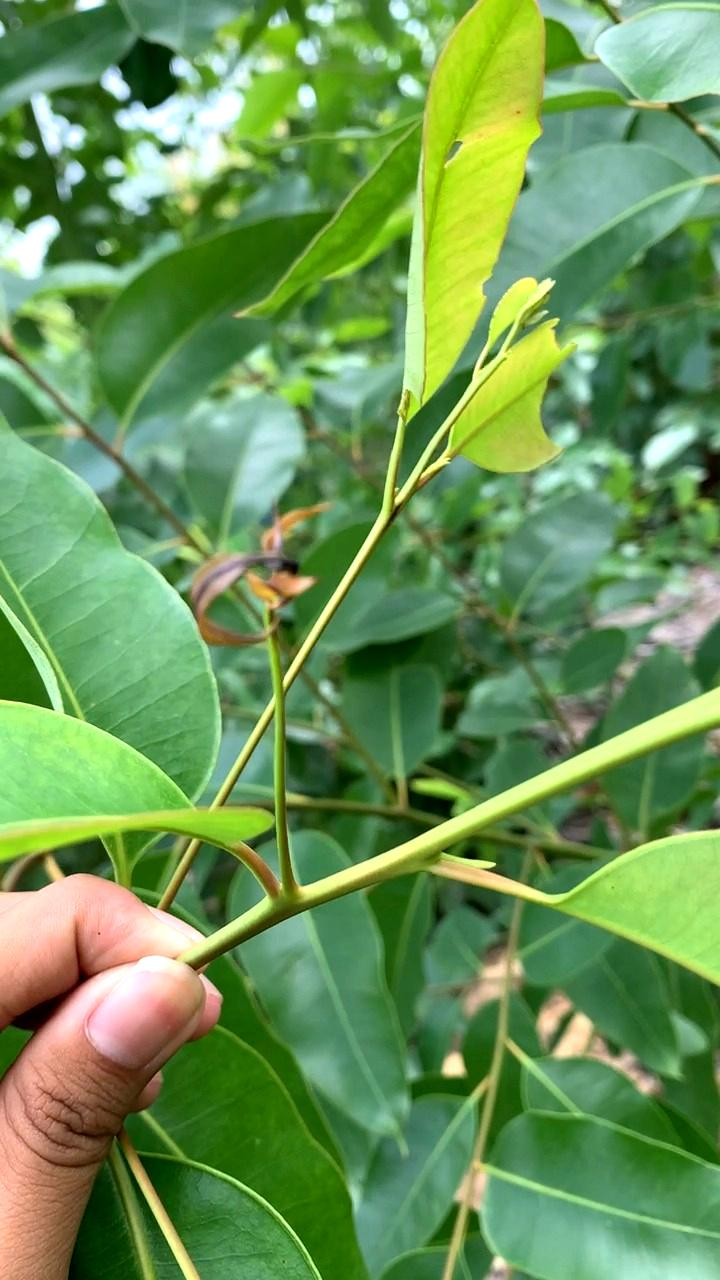Helopeltis-Withered Sprout: (173, 488, 343, 679)
